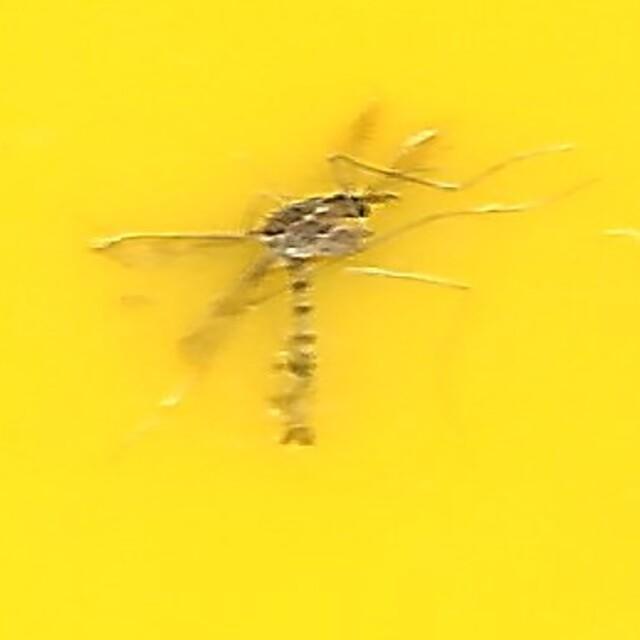Nematocera: (247, 178, 393, 462)
